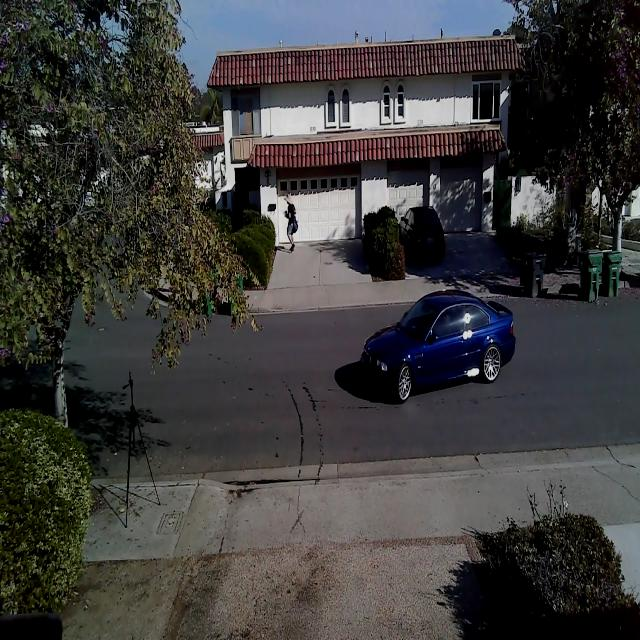Carbeetle: (354, 286, 520, 406)
Civilian: (399, 205, 445, 263)
